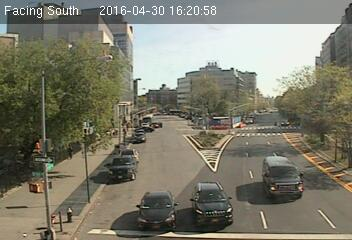neg: (173, 182, 185, 198), (234, 161, 246, 177), (118, 144, 128, 158), (143, 122, 150, 132)
pos: (62, 142, 77, 162), (45, 225, 55, 239)
